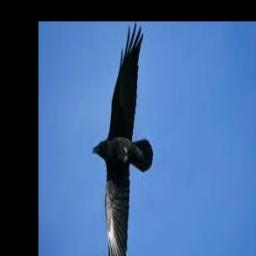Crow: (92, 21, 154, 256)
